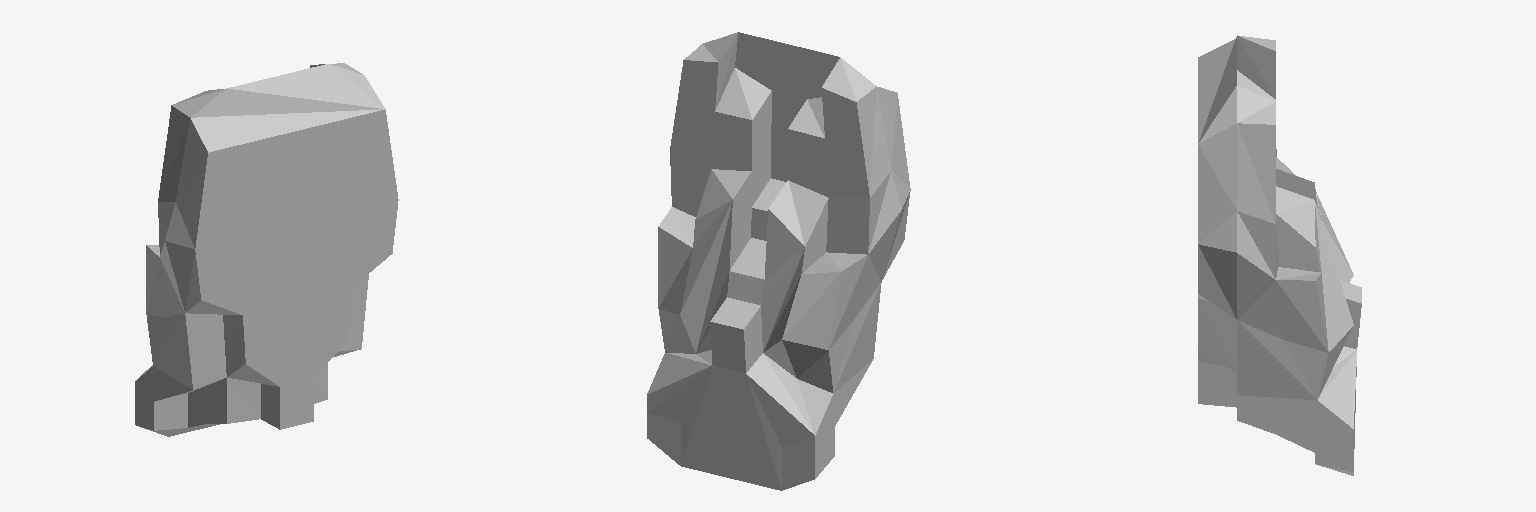
The model's file is HomingPlasmaBot_LOD0-0.obj.
3 renders of one model, left to right at view 1: azimuth 30°, elevation 25°; view 2: azimuth 150°, elevation 25°; view 3: azimuth 270°, elevation 25°, orthographic.
Parts seen in each view (by area): view 1: HomingPlasmaBot_LOD0-0; view 2: HomingPlasmaBot_LOD0-0; view 3: HomingPlasmaBot_LOD0-0.
Part boxes in pixels (bbox=[...]): HomingPlasmaBot_LOD0-0: bbox=[135, 63, 398, 436]; HomingPlasmaBot_LOD0-0: bbox=[647, 32, 910, 490]; HomingPlasmaBot_LOD0-0: bbox=[1198, 35, 1361, 475].
Size of the model in its own units: 0.6684 by 1.11 by 0.421.